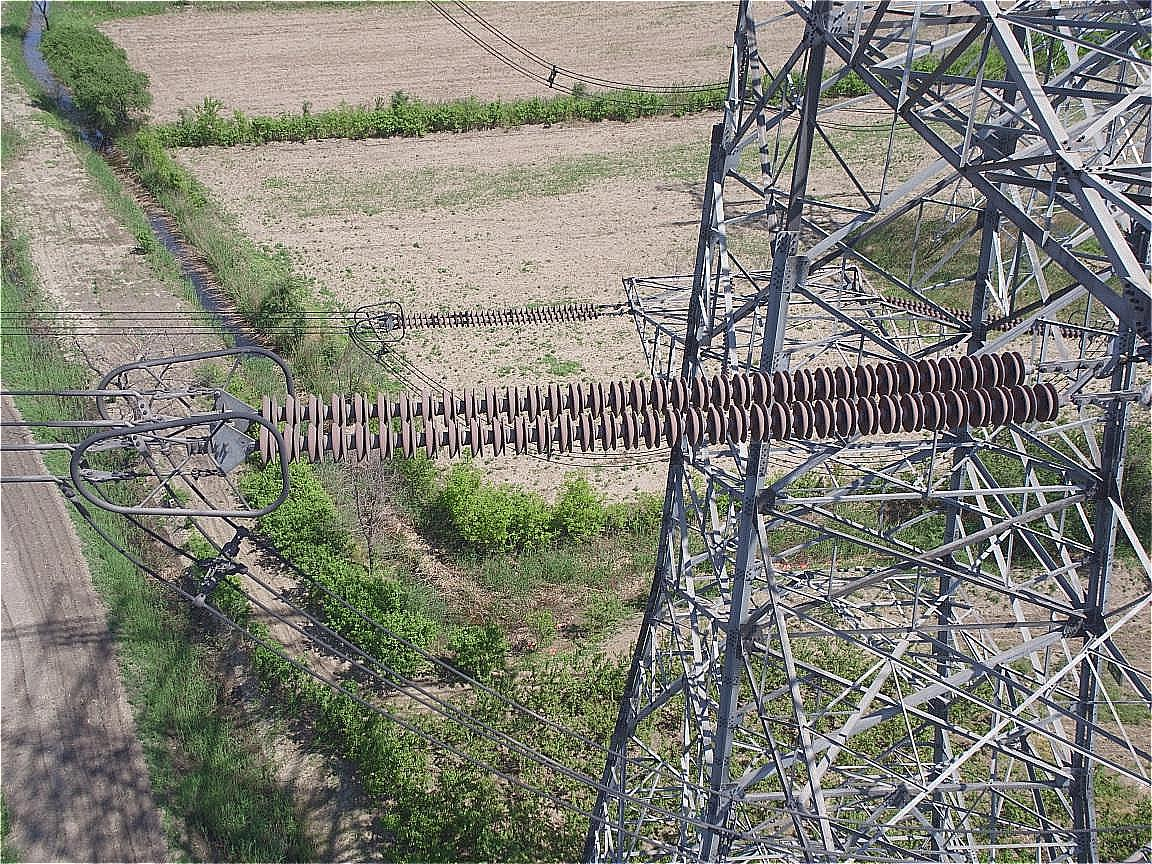insultor1: (383, 294, 607, 339)
insultor2: (234, 346, 1069, 453)
